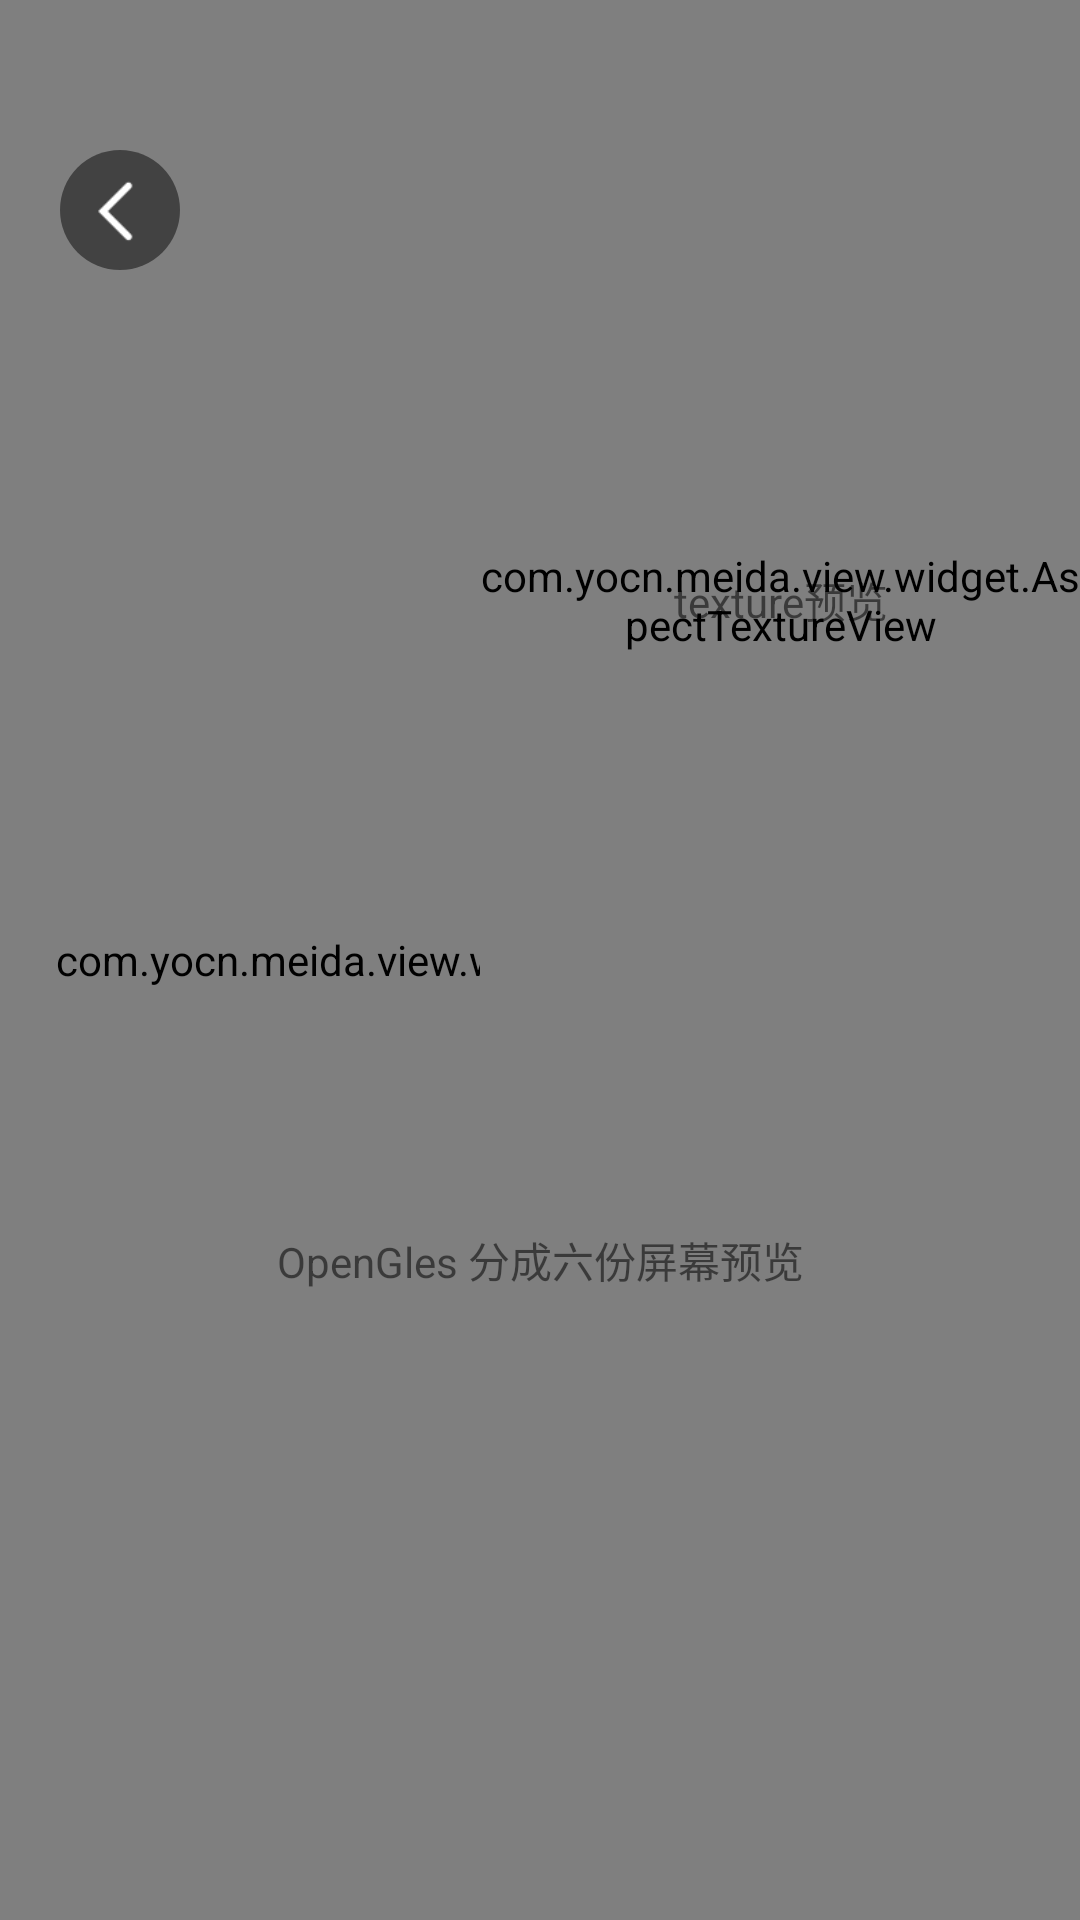

Where to tap for icons on this 1080×1920 app screen, as point (x, y):
back: point (120, 210)
